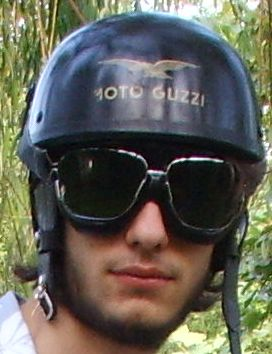helmet: (18, 13, 266, 151)
